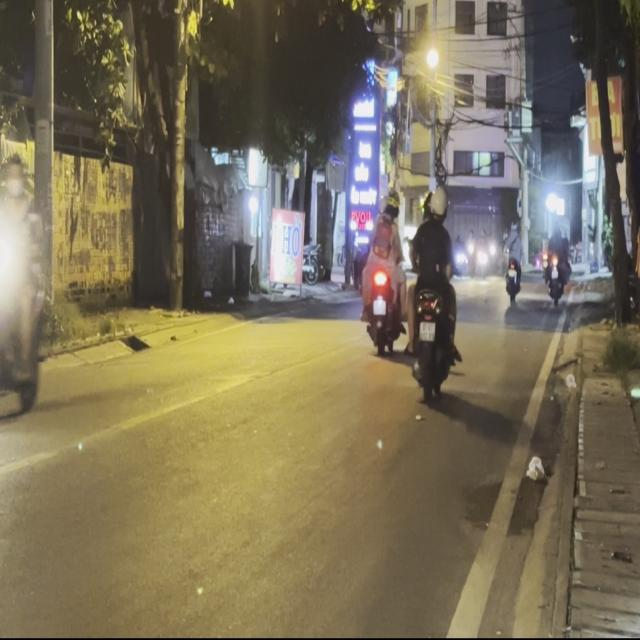helmet: (2, 152, 26, 198), (426, 185, 446, 220)
licenseplate: (0, 147, 53, 428), (405, 184, 461, 401)
nohelmet: (418, 321, 434, 339), (373, 298, 386, 314)
